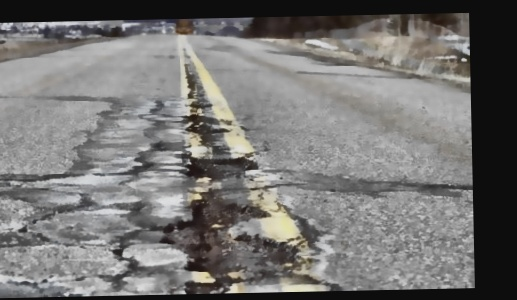pothole: (156, 196, 293, 294), (182, 154, 260, 180)
